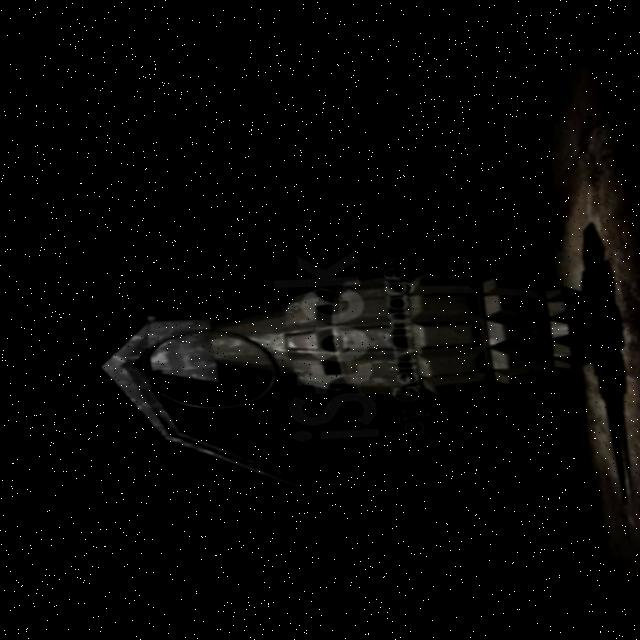grenade: (78, 197, 627, 563)
